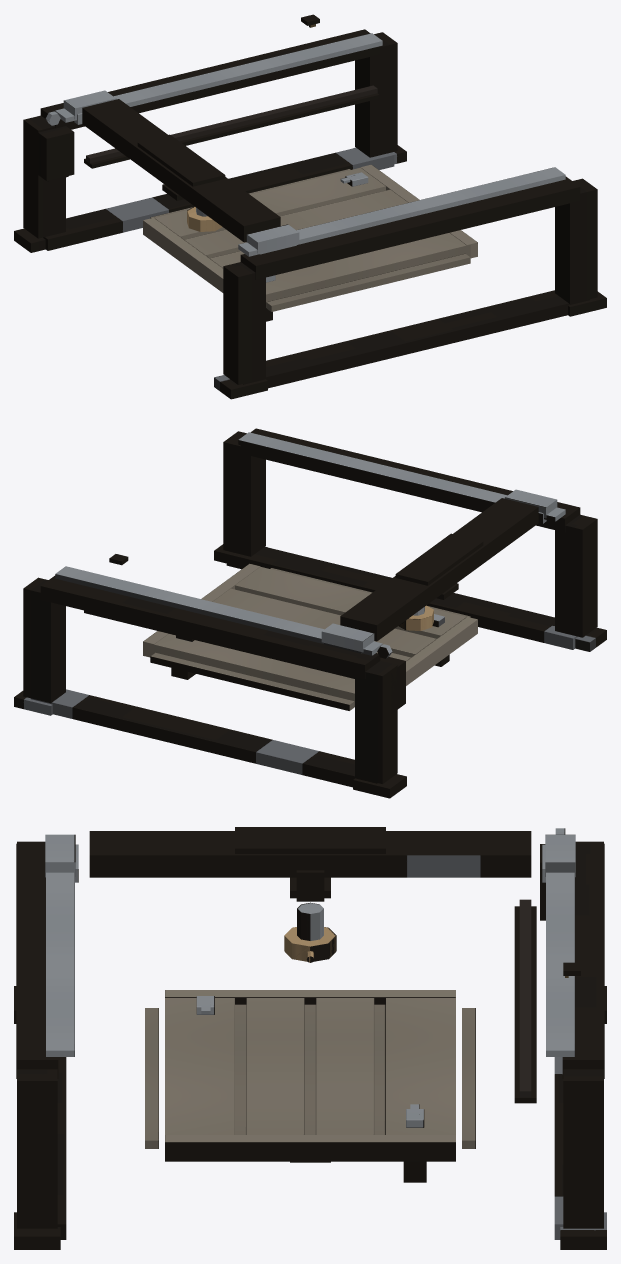
File: fabricator_lod1.glb
3 views of the same model, one above another, from view 1: azimuth 30°, elevation 25°; view 2: azimuth 150°, elevation 25°; view 3: azimuth 270°, elevation 25° (orthographic). The views are drawn at different scales.
Parts seen in each view (by area): view 1: LOD1_fabricator, LOD1_Gantry; view 2: LOD1_fabricator, LOD1_Gantry; view 3: LOD1_fabricator, LOD1_Gantry.
Boxes of the visible parts, bbox=[...] form: LOD1_fabricator: bbox=[14, 29, 606, 399]; LOD1_Gantry: bbox=[63, 90, 299, 254]; LOD1_fabricator: bbox=[14, 428, 606, 798]; LOD1_Gantry: bbox=[321, 489, 557, 653]; LOD1_fabricator: bbox=[14, 828, 606, 1249]; LOD1_Gantry: bbox=[45, 827, 575, 962].
Size of the model in its own units: 2.04 by 0.842 by 2.04.
1 material, 1 textured.
